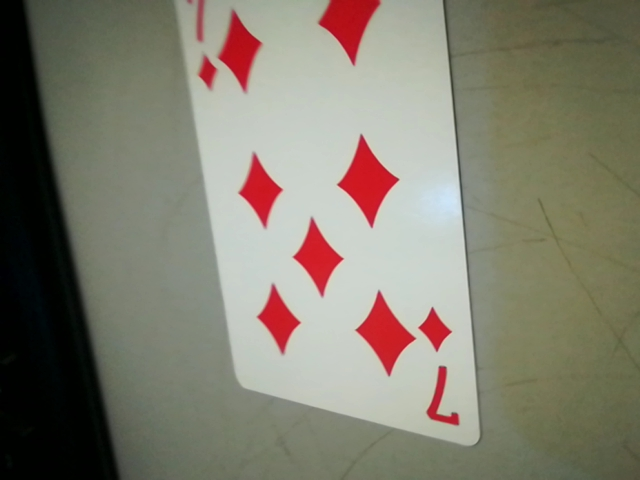fk 7: (412, 297, 472, 439)
